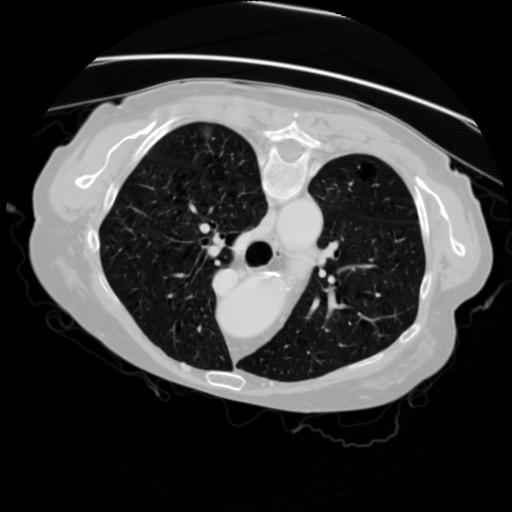nodule: (196, 125, 215, 144)
